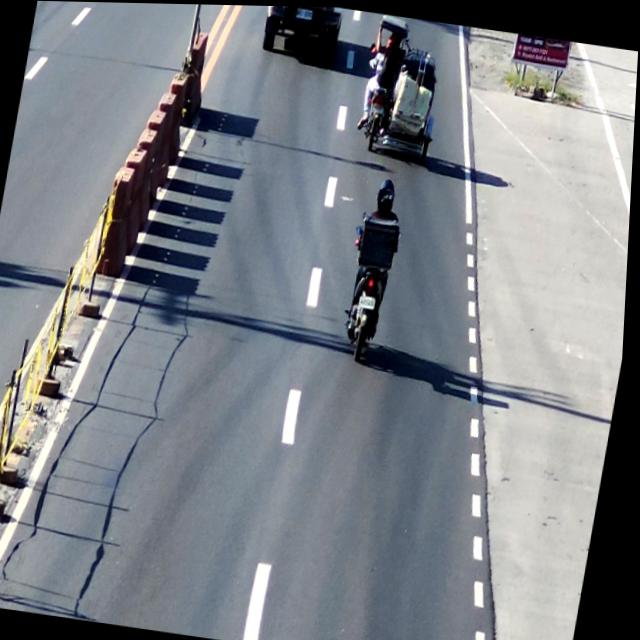Car: (257, 5, 343, 66)
License-Plate: (359, 292, 382, 309), (292, 5, 313, 23)
Motorcycle: (334, 171, 413, 369)
Tricycle: (350, 12, 455, 168)
